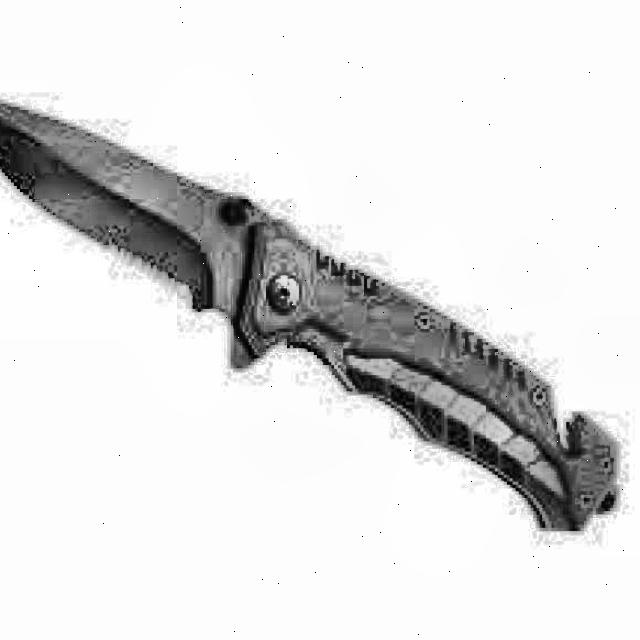knife: (0, 78, 622, 548)
